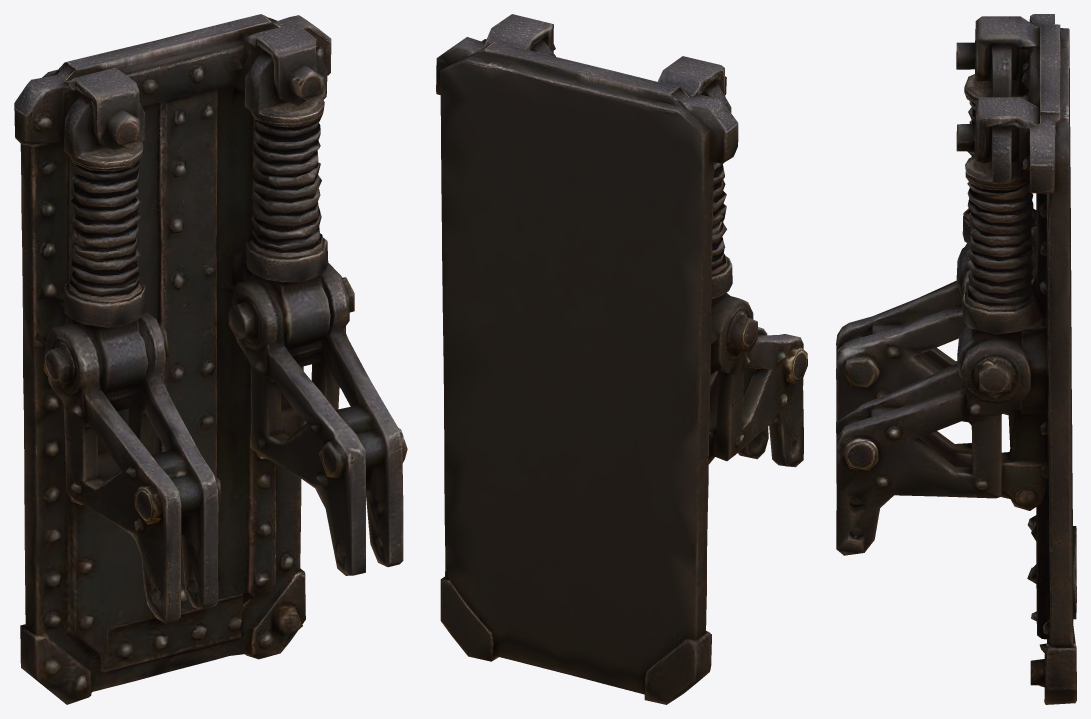
File: clampmount.glb
3 renders of one model, left to right at view 1: azimuth 30°, elevation 25°; view 2: azimuth 150°, elevation 25°; view 3: azimuth 270°, elevation 25°, orthographic. The views are drawn at different scales.
Parts seen in each view (by area): view 1: clampmount; view 2: clampmount; view 3: clampmount.
Boxes of the visible parts, x1=… form: clampmount: x1=14, y1=14, x2=407, y2=704; clampmount: x1=436, y1=14, x2=807, y2=704; clampmount: x1=836, y1=14, x2=1076, y2=704.
Bounding box in the file's own units: 1.35 × 2.7 × 0.9984.
Materials: 1 (1 with a texture image).
